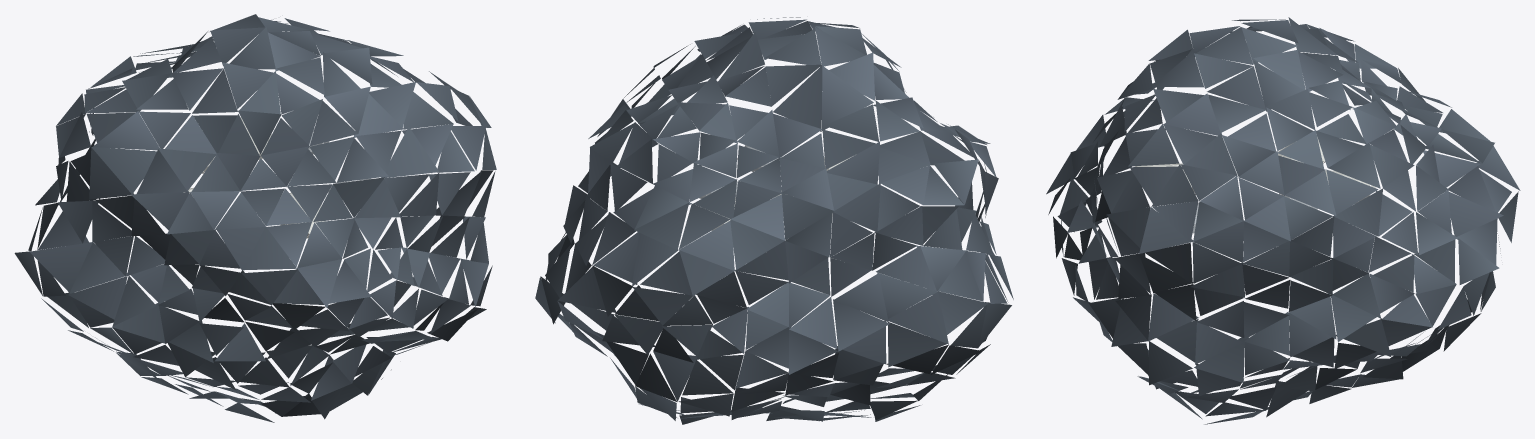
Rendered from standard-lod1.glb.
3 renders of one model, left to right at view 1: azimuth 30°, elevation 25°; view 2: azimuth 150°, elevation 25°; view 3: azimuth 270°, elevation 25°, orthographic. The views are drawn at different scales.
Parts seen in each view (by area): view 1: tin-host-rock, tin-mineral-seams; view 2: tin-host-rock; view 3: tin-host-rock, tin-mineral-seams.
Boxes of the visible parts, left/top/right/bottom form: tin-host-rock: left=14, top=14, right=496, bottom=422; tin-mineral-seams: left=183, top=117, right=371, bottom=238; tin-host-rock: left=535, top=17, right=1013, bottom=424; tin-host-rock: left=1046, top=17, right=1520, bottom=424; tin-mineral-seams: left=1135, top=137, right=1375, bottom=233.
Size of the model in its own units: 2.86 by 2.61 by 2.99.
